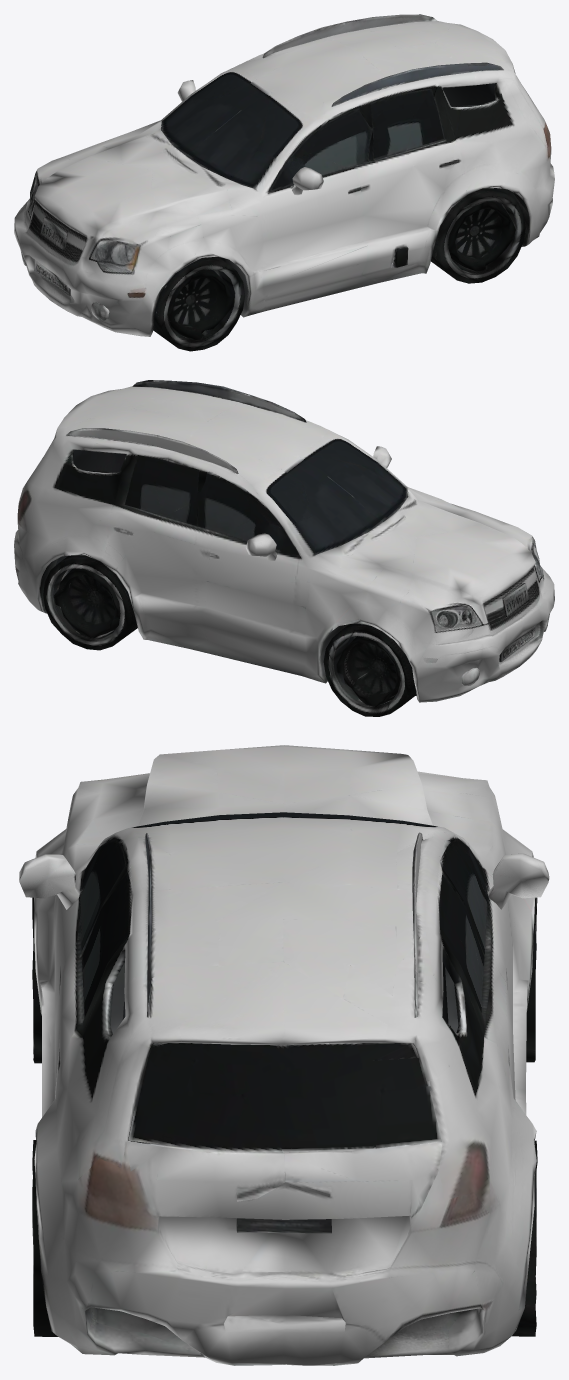
The model's file is carro.glb.
3 views of the same model, one above another, from view 1: azimuth 30°, elevation 25°; view 2: azimuth 150°, elevation 25°; view 3: azimuth 270°, elevation 25° (orthographic). The views are drawn at different scales.
Visible parts, largest first — view 1: mesh_node; view 2: mesh_node; view 3: mesh_node.
Boxes of the visible parts, bbox=[...] form: mesh_node: bbox=[14, 14, 554, 351]; mesh_node: bbox=[14, 380, 554, 716]; mesh_node: bbox=[19, 745, 549, 1365].
Size of the model in its own units: 1.97 by 0.8001 by 0.952.
Materials: 1 (1 with a texture image).
